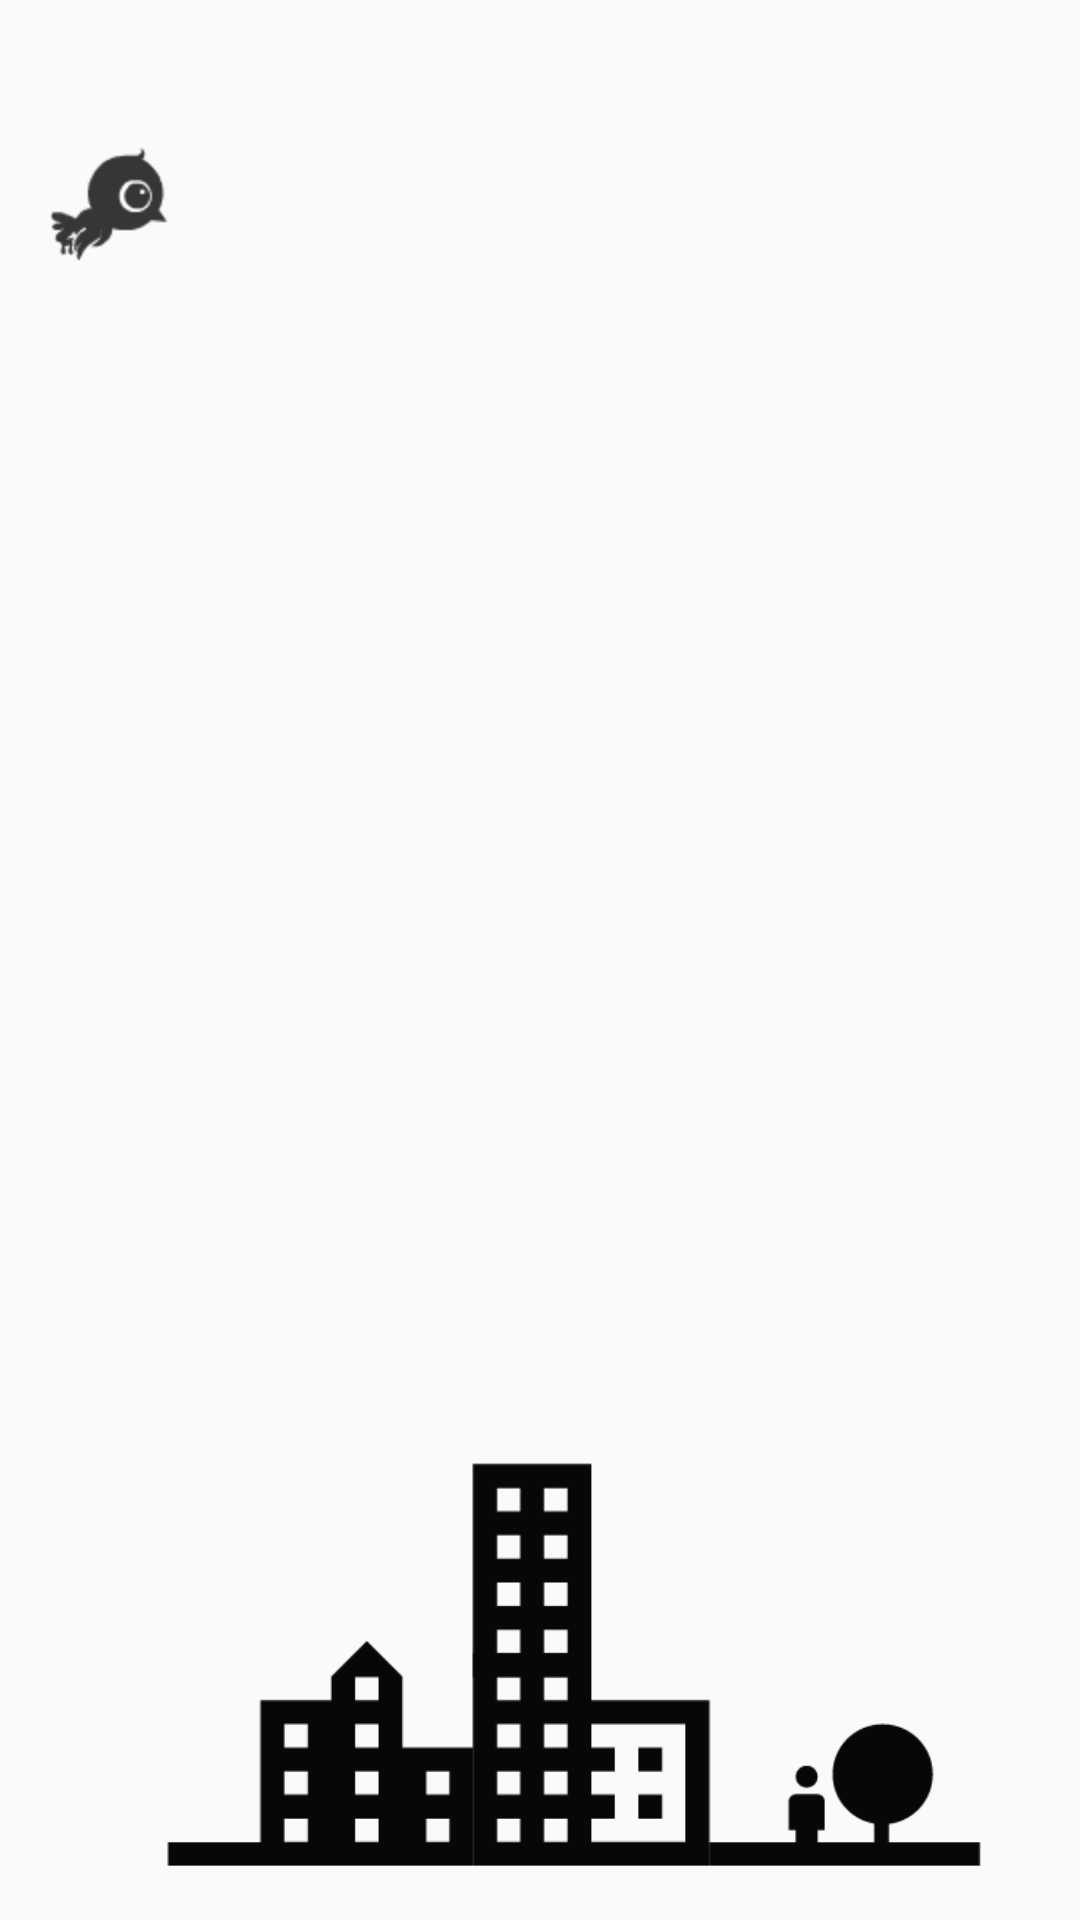

Where to tap for icons on this 1080×1920 app screen, as [x,y]:
flyingloop: [108,204]
